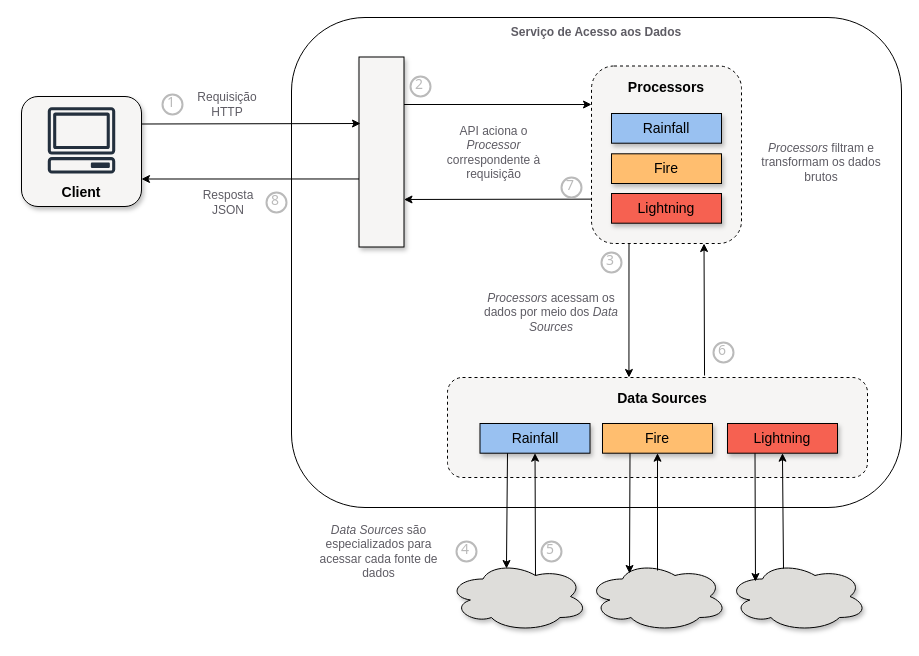
This 919x656 diagram has some shape labels left out. Here are the shapes that lost their labels. From the top down, the centre of each, then its label:
At (x=382, y=153): "A P I".
At (x=518, y=597): "OpenWeatherAPI".
At (x=658, y=597): "Dados Abertos (INPE)".
At (x=798, y=597): "GOES-16 (AWS)".
